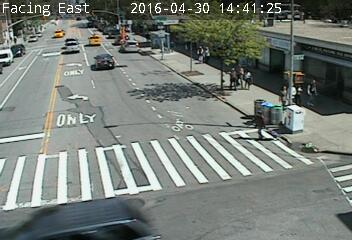neg: (133, 151, 174, 205), (308, 115, 345, 164), (24, 68, 52, 106), (227, 164, 254, 200), (30, 10, 53, 40), (74, 6, 87, 24), (108, 19, 111, 22)
pos: (247, 106, 275, 144)
